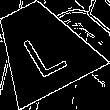L_NW: (14, 19, 69, 77)
